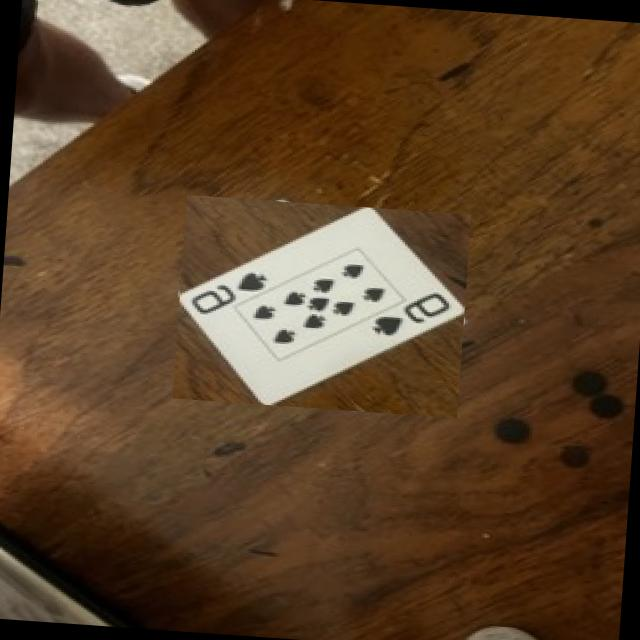9 of spades: (180, 206, 463, 402)
